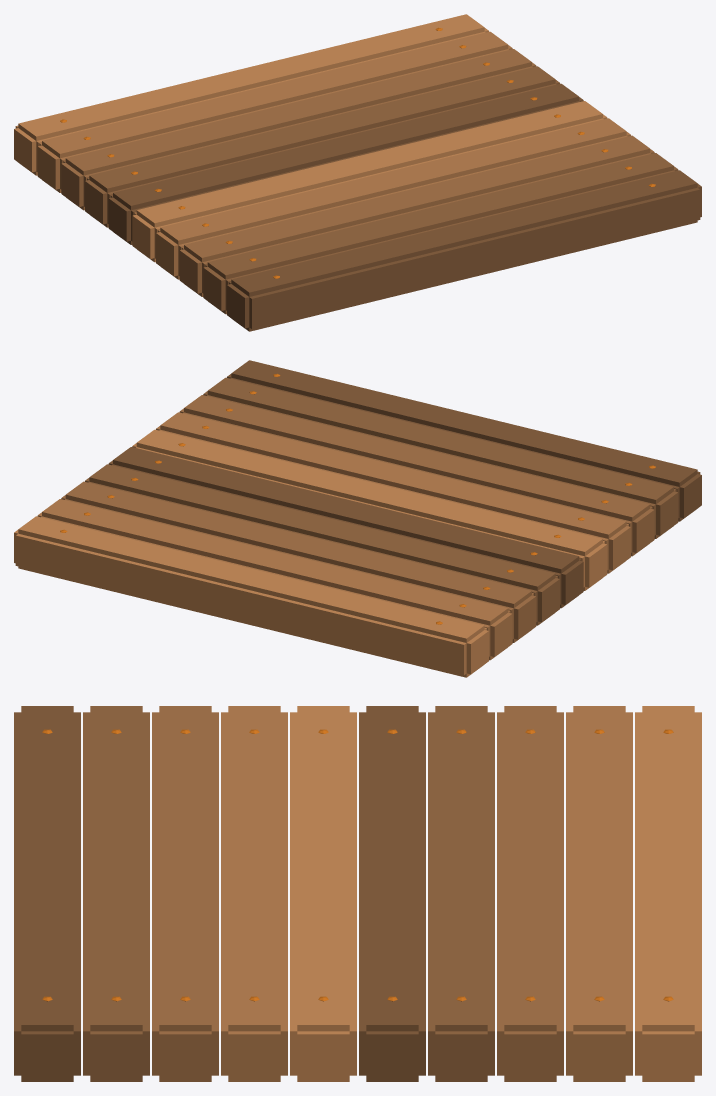
The model's file is dock-deck.glb.
3 views of the same model, one above another, from view 1: azimuth 30°, elevation 25°; view 2: azimuth 150°, elevation 25°; view 3: azimuth 270°, elevation 25° (orthographic). The views are drawn at different scales.
Visible parts, largest first — view 1: dock-deck; view 2: dock-deck; view 3: dock-deck.
Part boxes in pixels (bbox=[...]): dock-deck: bbox=[14, 14, 701, 331]; dock-deck: bbox=[14, 360, 701, 677]; dock-deck: bbox=[14, 706, 701, 1081].
Bounding box in the file's own units: 3.8 × 0.32 × 3.4.
